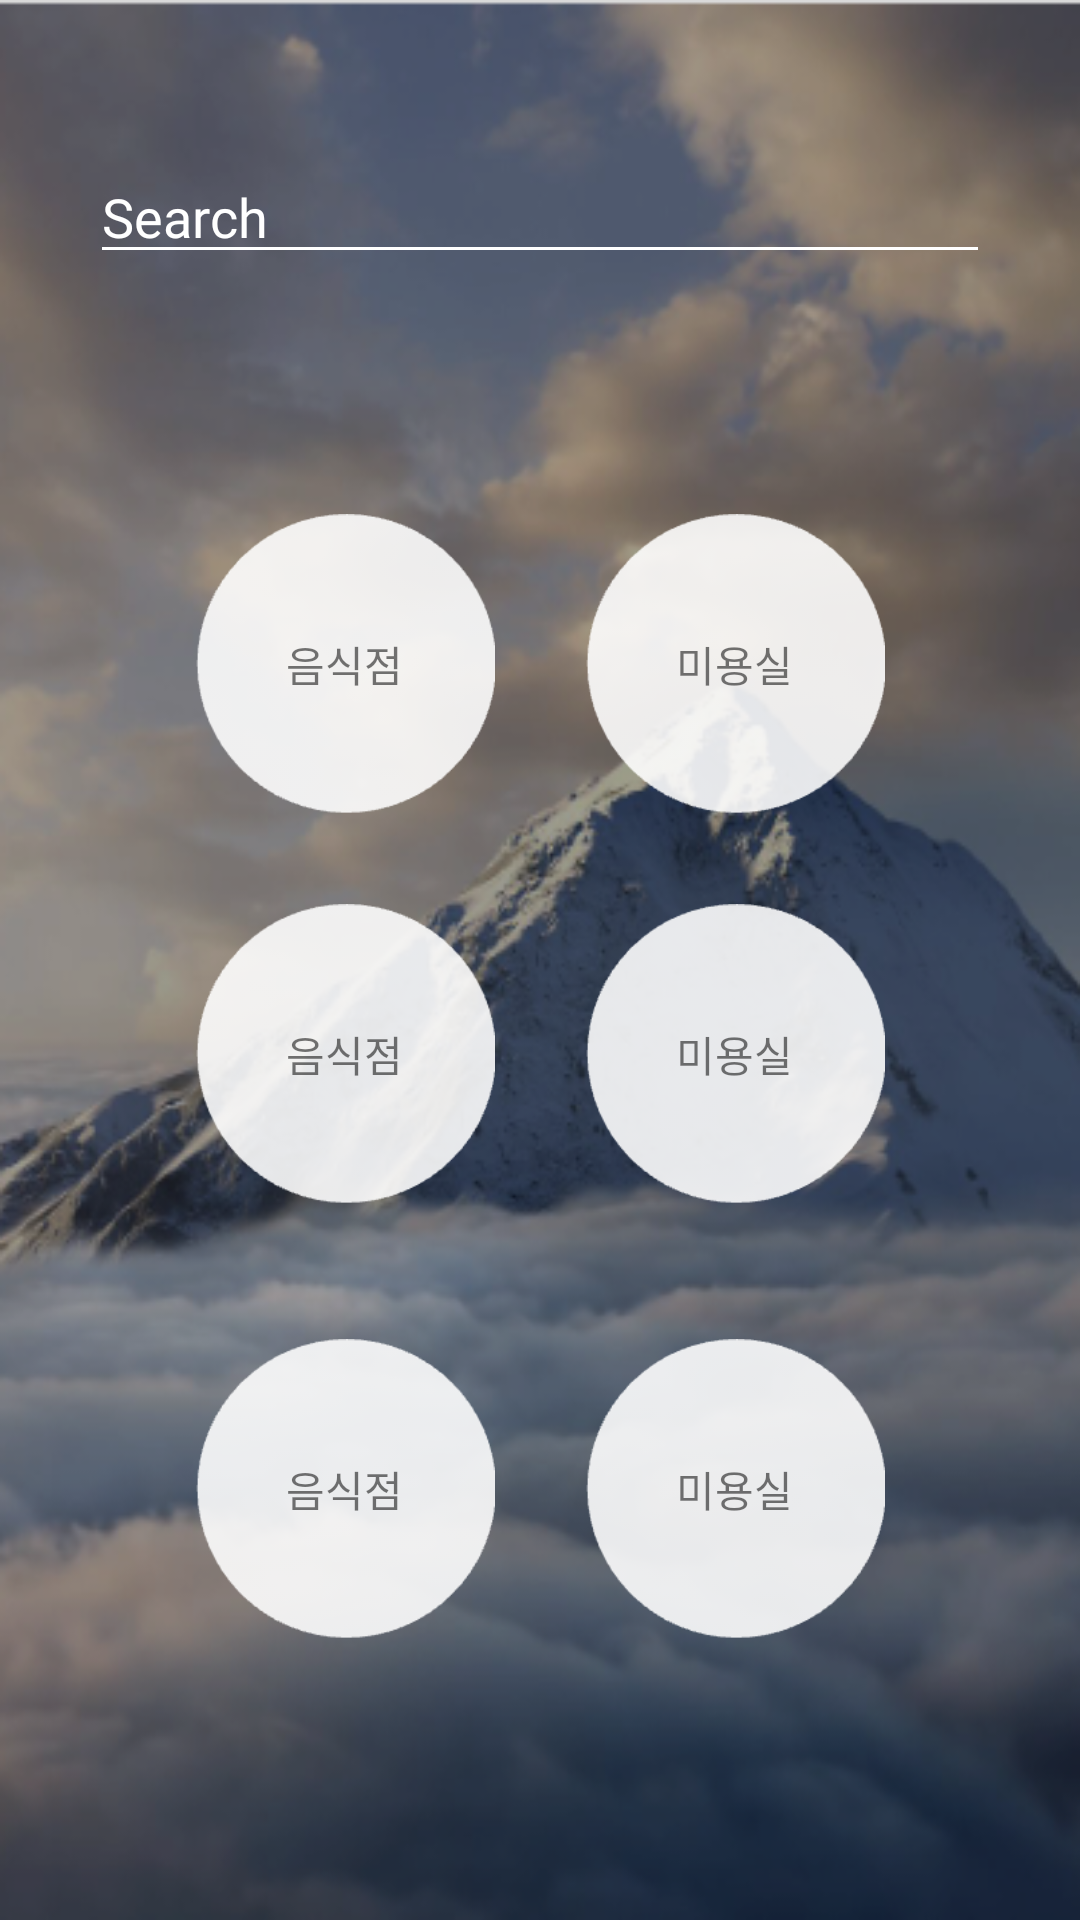

Icons on this 1080x1920 Android screen, each with the point to tap as [x,y]:
circle: [345,663], [735,664], [345,1054], [735,1054], [345,1489], [735,1488]
